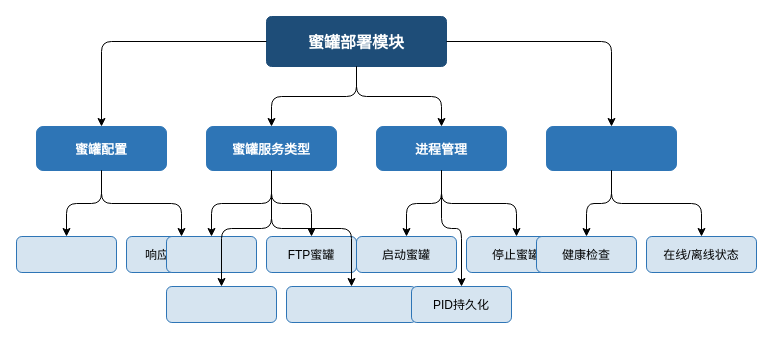
This 773x339 diagram has some shape labels left out. The centre of each missing label's shape, as x and y in pixels:
"HTTP/IoT蜜罐" belongs at pixel 221 304.
"Redis/MySQL/ES蜜罐" belongs at pixel 351 304.
"SSH蜜罐" belongs at pixel 211 254.
"状态监控" belongs at pixel 611 148.
"端口配置" belongs at pixel 66 254.
